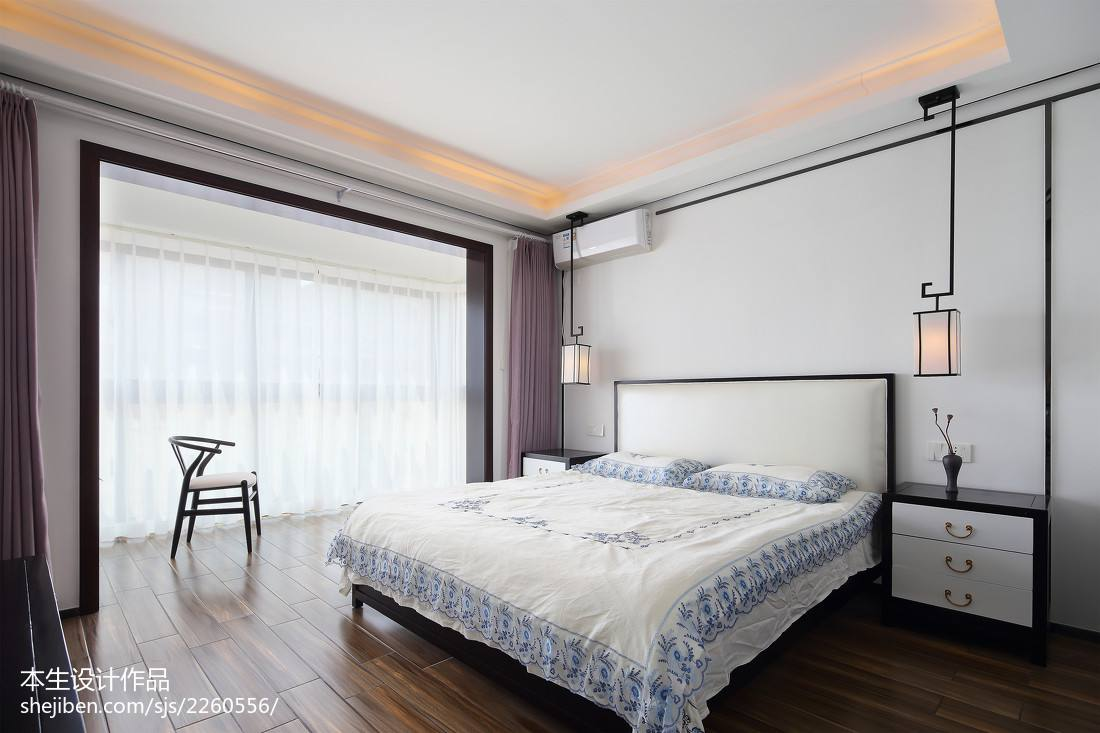床: (328, 472, 879, 707)
枕头: (555, 450, 850, 506)
灯: (909, 87, 968, 382), (552, 205, 596, 391)
